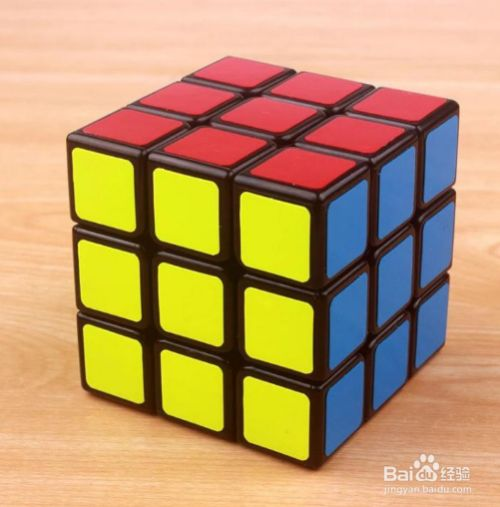cube: (53, 41, 473, 477)
